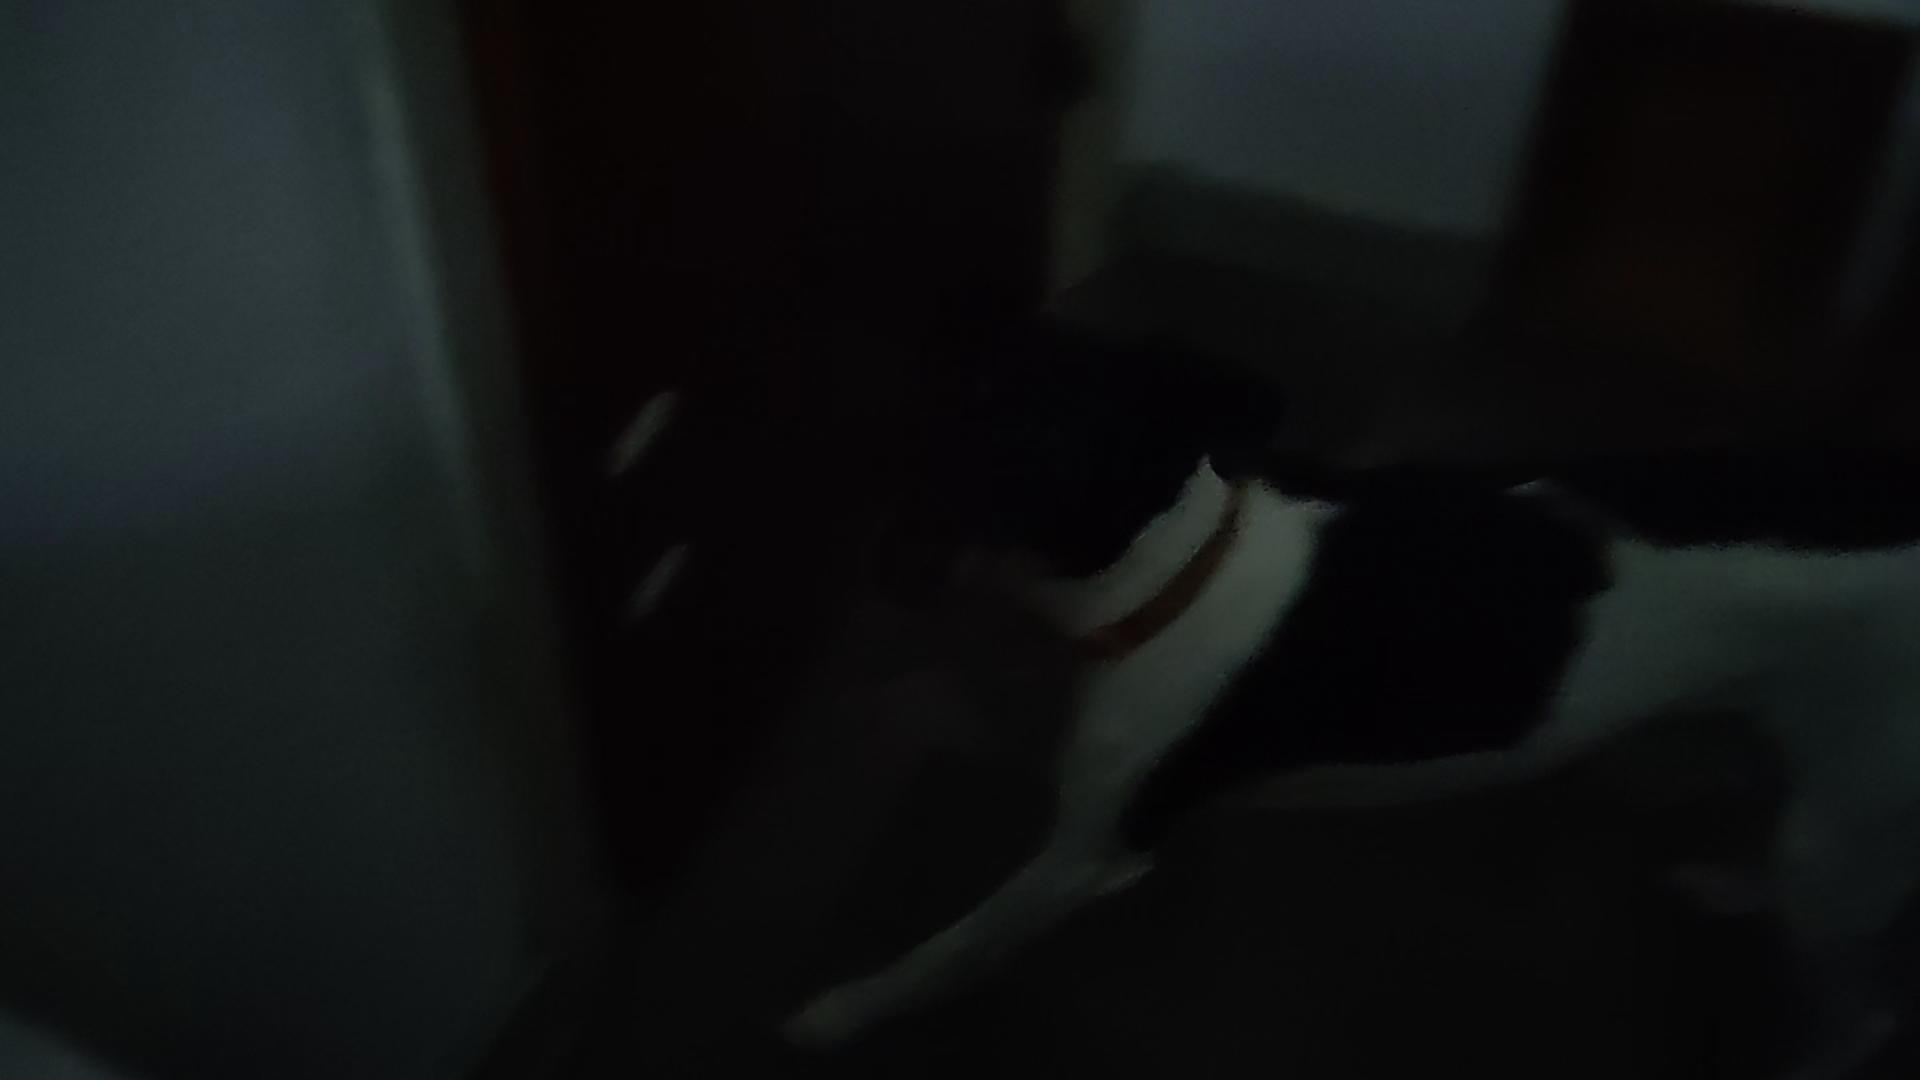Dog: (629, 224, 1919, 1079)
